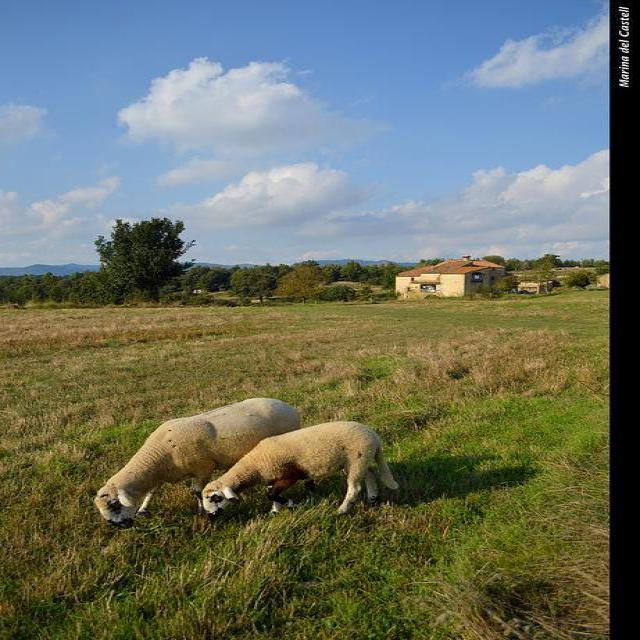Sheep: (89, 390, 298, 536), (193, 420, 400, 522)
